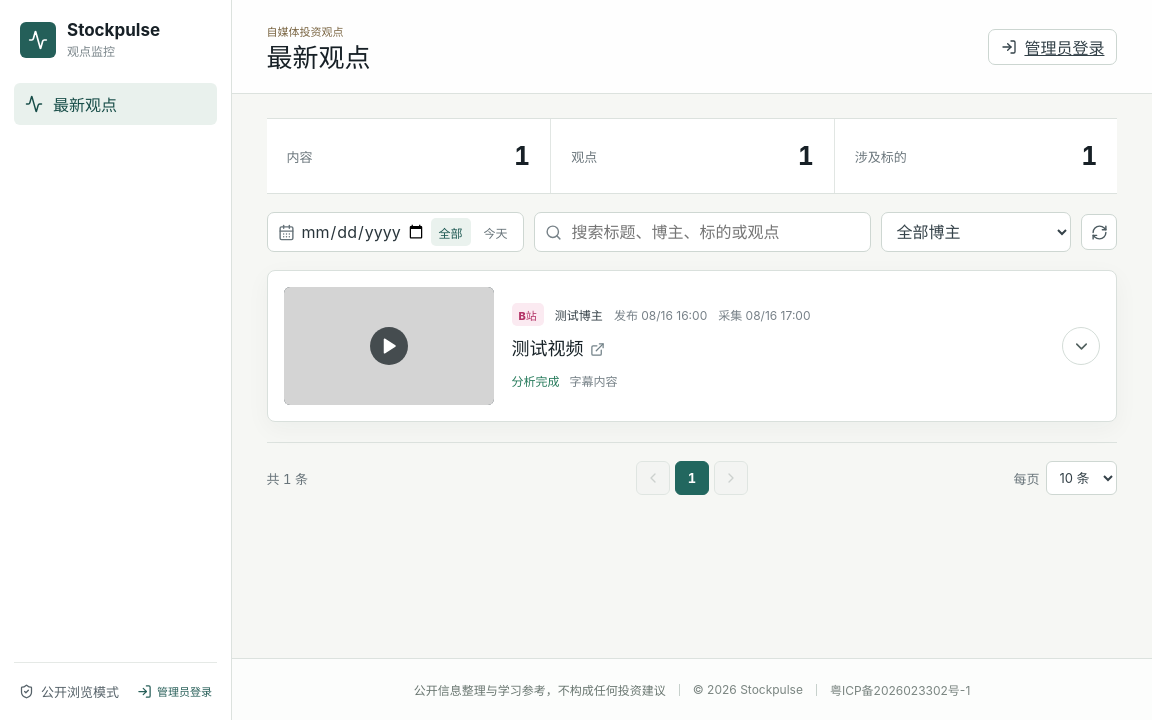
Test: application routes › an insight card is collapsed by default and reveals its details and transcript on demand
Check: the link "测试视频" is shown, box x1=512 y1=337 x2=604 y2=362
Check: the text "B 站字幕文字稿" is not shown
Click the button named "展开观点：测试视频" at point(1082, 346), box x1=1062 y1=327 x2=1100 y2=365
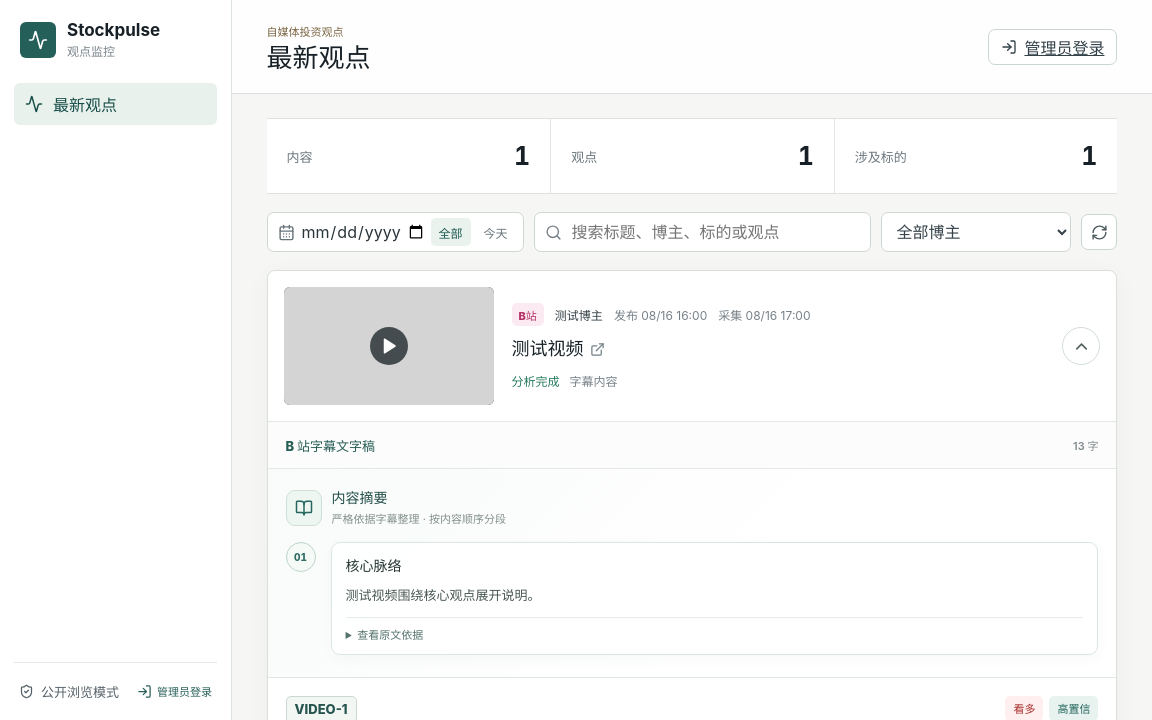
Check: the button named "收起观点：测试视频" is expanded, box x1=1062 y1=327 x2=1100 y2=365
Check: the heading "内容摘要" is shown, box x1=332 y1=489 x2=388 y2=506
Check: the text "测试视频围绕核心观点展开说明。" is shown, box x1=346 y1=587 x2=540 y2=603
Click the heading "查看原文依据" at point(384, 634), box x1=346 y1=626 x2=423 y2=642
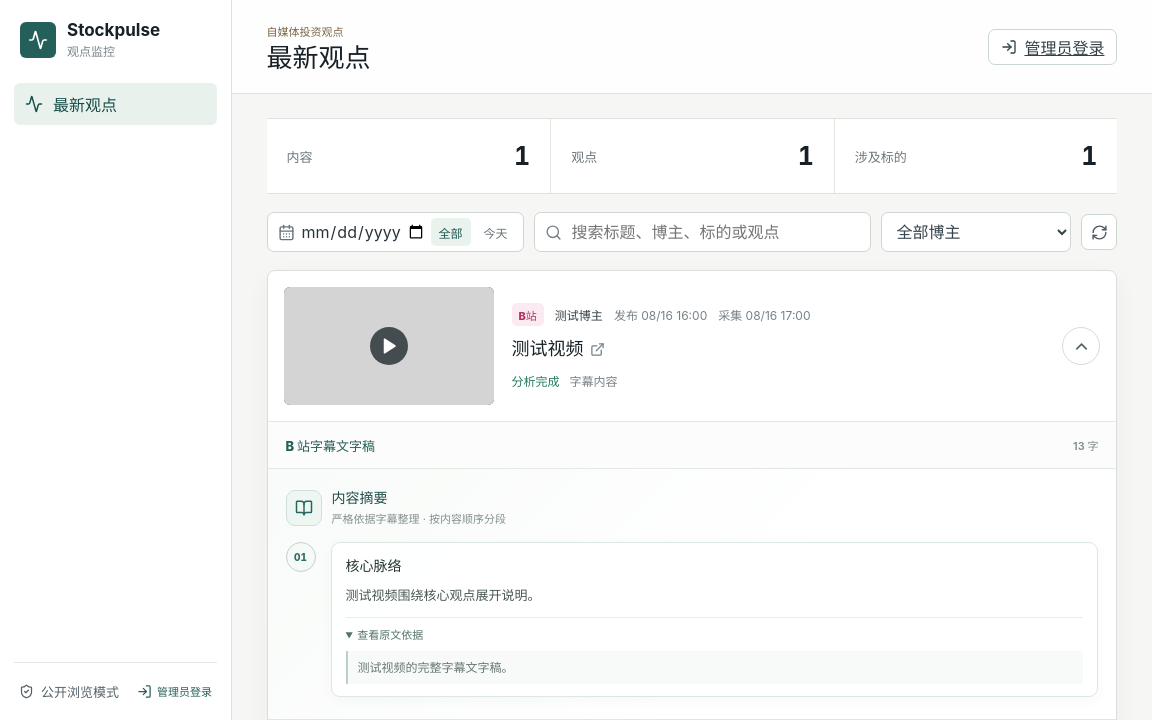
Check: the text "B 站字幕文字稿" is shown
Check: the element "内容摘要" is shown, box x1=268 y1=469 x2=1116 y2=719
Check: the text "测试视频的完整字幕文字稿。" is shown, box x1=346 y1=651 x2=1083 y2=684
Click the text "B 站字幕文字稿" at point(330, 445), box x1=286 y1=436 x2=375 y2=455
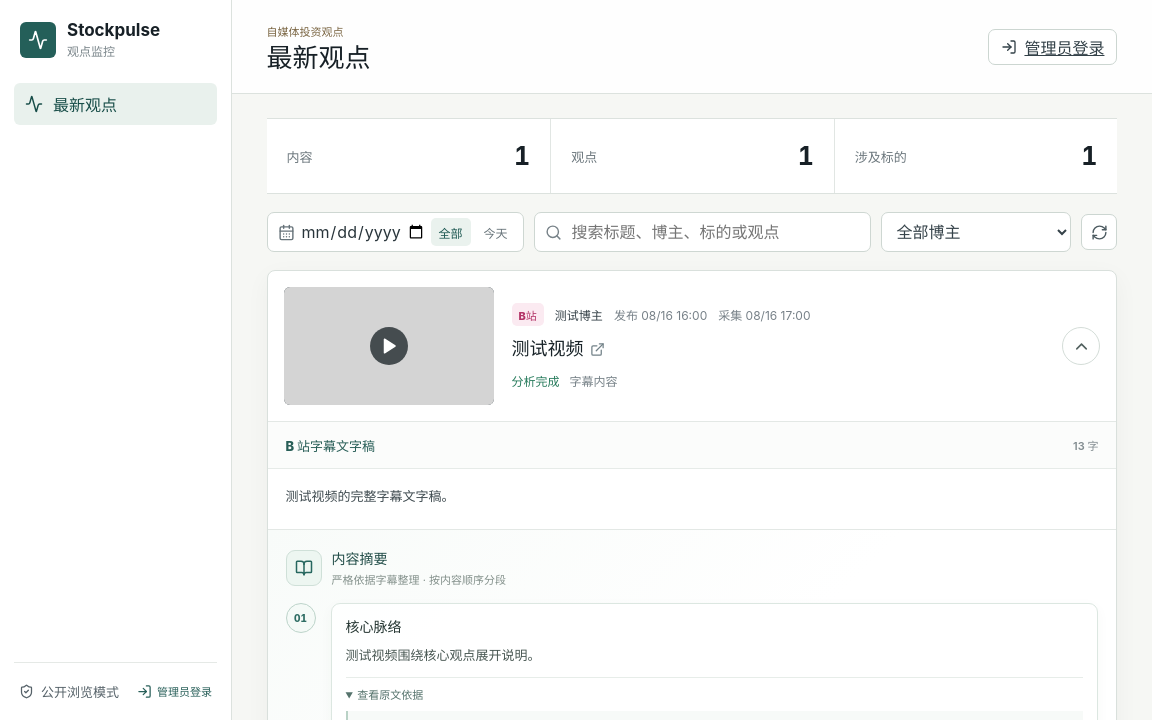
Click the button named "收起观点：测试视频" at point(1082, 346), box x1=1062 y1=327 x2=1100 y2=365
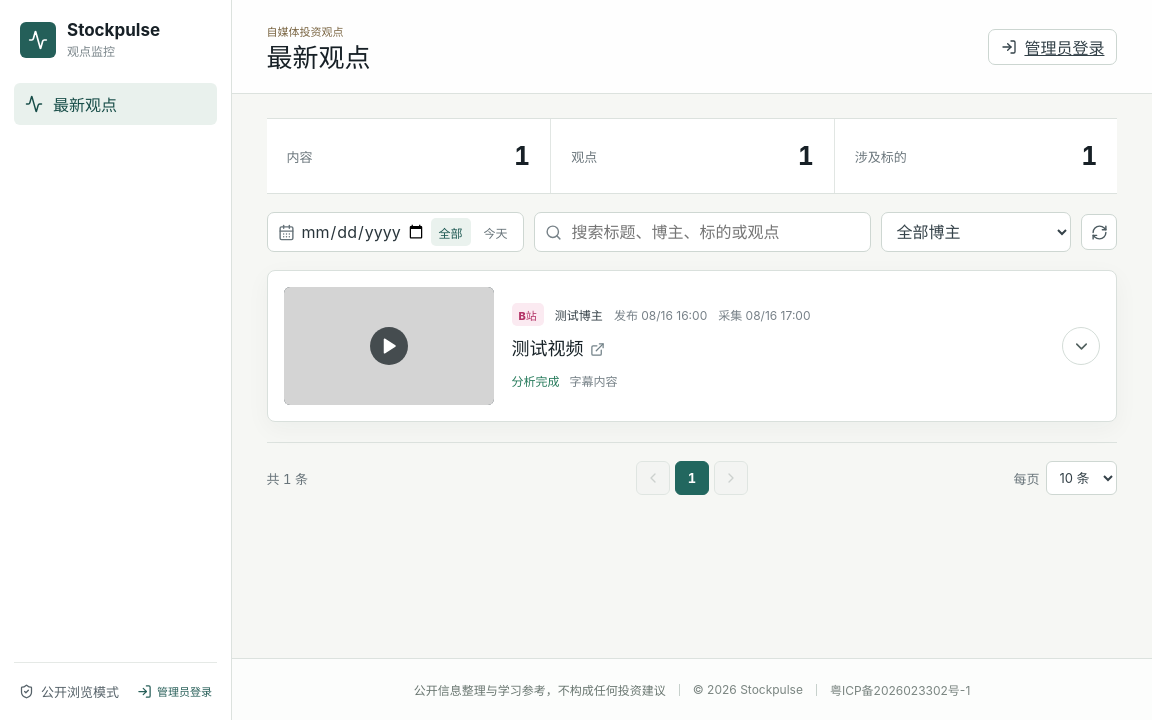
Check: the button named "展开观点：测试视频" is collapsed, box x1=1062 y1=327 x2=1100 y2=365
